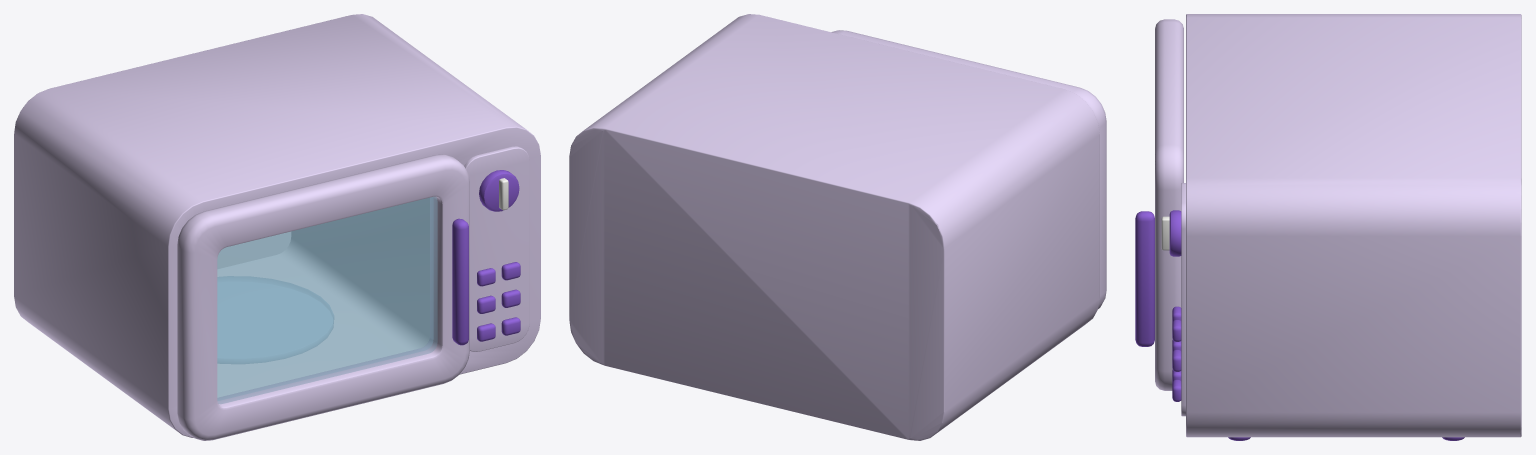
The model's file is micro_ondas_lilas.glb.
3 renders of one model, left to right at view 1: azimuth 30°, elevation 25°; view 2: azimuth 150°, elevation 25°; view 3: azimuth 270°, elevation 25°, orthographic. The views are drawn at different scales.
Parts seen in each view (by area): view 1: micro_ondas_lilas, porta; view 2: micro_ondas_lilas, porta; view 3: micro_ondas_lilas, porta.
Boxes of the visible parts, <box> form: micro_ondas_lilas: <box>14,14,540,437</box>; porta: <box>177,154,469,440</box>; micro_ondas_lilas: <box>569,14,1099,440</box>; porta: <box>831,30,1106,308</box>; micro_ondas_lilas: <box>1161,14,1521,440</box>; porta: <box>1135,19,1183,390</box>.
Size of the model in its own units: 0.48 by 0.302 by 0.397.
2 materials, 1 textured.
